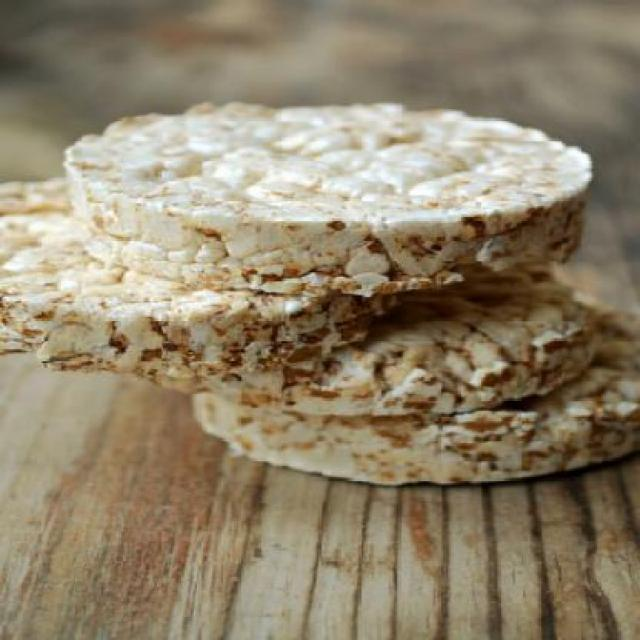Gallette di riso packaged: (64, 95, 592, 278)
